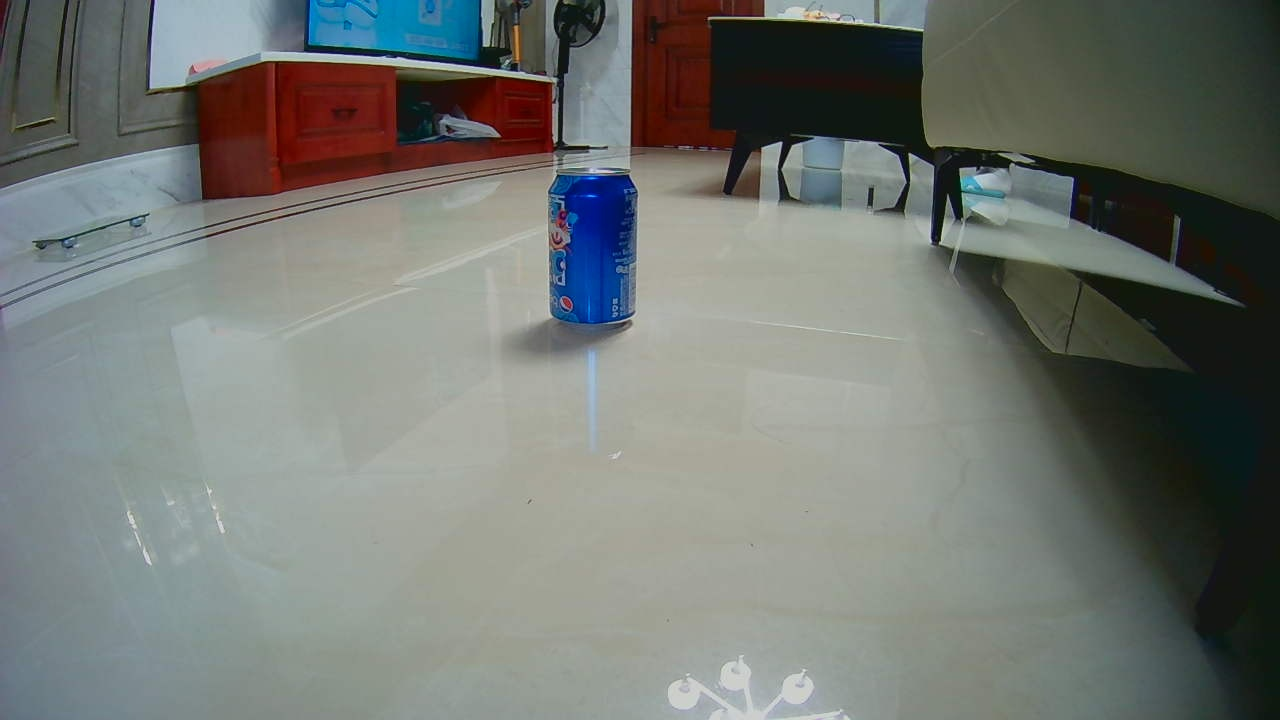pessi: (544, 170, 635, 332)
